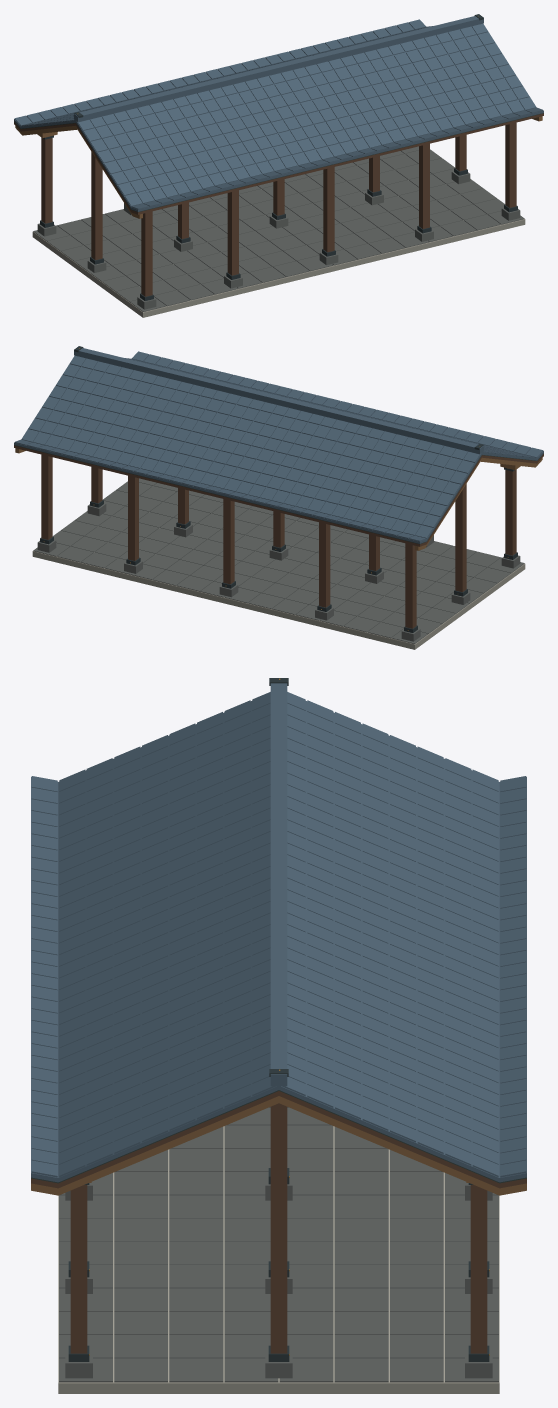
File: visual-far.glb
3 renders of one model, top to bottom at view 1: azimuth 30°, elevation 25°; view 2: azimuth 150°, elevation 25°; view 3: azimuth 270°, elevation 25°, orthographic. The views are drawn at different scales.
Visible parts, largest first — view 1: 旧住宅单/双脊连续屋面, 石铺面与混凝土楼板 (×8), 木柱、石础与金属抱箍 (×11); view 2: 旧住宅单/双脊连续屋面, 石铺面与混凝土楼板 (×8), 木柱、石础与金属抱箍 (×11); view 3: 旧住宅单/双脊连续屋面, 石铺面与混凝土楼板 (×6), 木柱、石础与金属抱箍 (×3).
Part boxes in pixels (x1,y1,x2,y2): 旧住宅单/双脊连续屋面: (14,14,543,218); 石铺面与混凝土楼板 (×8): (32,146,525,317); 木柱、石础与金属抱箍 (×11): (37,122,520,309); 旧住宅单/双脊连续屋面: (14,346,543,550); 石铺面与混凝土楼板 (×8): (32,478,525,649); 木柱、石础与金属抱箍 (×11): (37,454,520,641); 旧住宅单/双脊连续屋面: (31,678,526,1195); 石铺面与混凝土楼板 (×6): (58,1107,499,1393); 木柱、石础与金属抱箍 (×3): (65,1103,492,1378).
Bounding box in the file's own units: 13.6 × 5.32 × 7.2.
9 materials, 9 textured.
